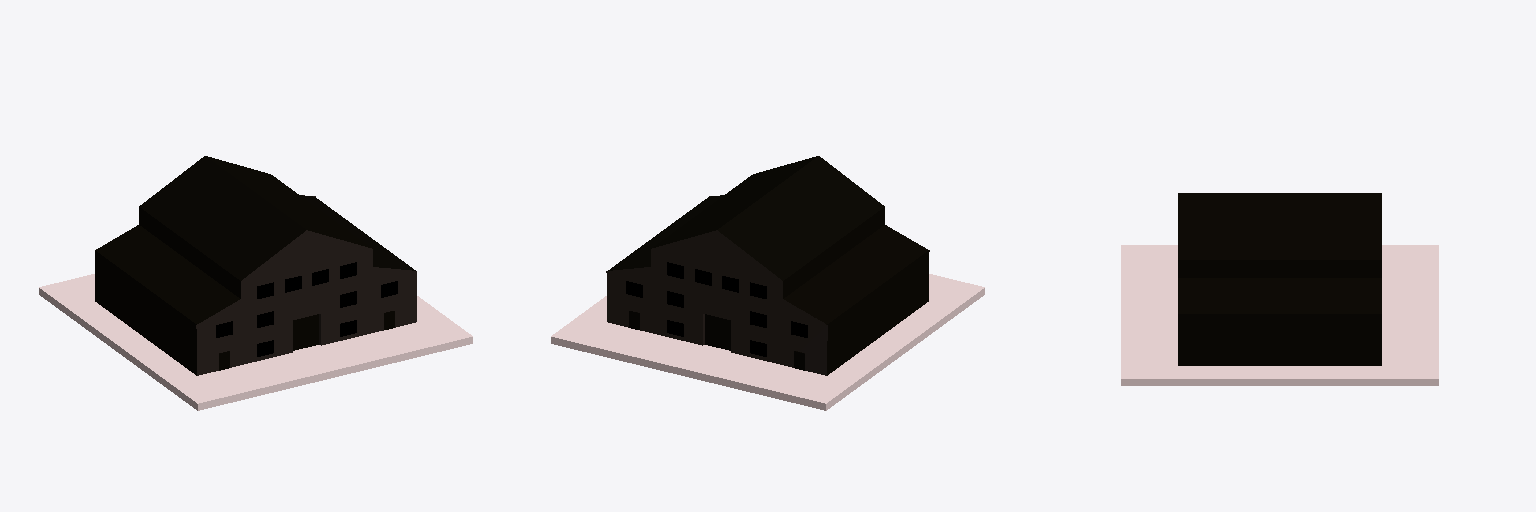
File: TallerDeMaquinaria_Laboratorio.obj
The picture shows the model from 3 angles: view 1: azimuth 30°, elevation 25°; view 2: azimuth 150°, elevation 25°; view 3: azimuth 270°, elevation 25°; orthographic projection.
Visible parts, largest first — view 1: MainBuilding1 Sides2 MainBuilding1, Floor, MainBuilding1 Exterior BuildingAttachment1, MainBuilding1 MainBuilding1 Back, MainBuilding1 BuildingAttachment1 Faces, MainBuilding1 BuildingAttachment2 Faces, MainBuilding1 Exterior BuildingAttachment2, MainBuildingEntrance1 MainBuilding1; view 2: MainBuilding1 Sides2 MainBuilding1, Floor, MainBuilding1 Exterior BuildingAttachment1, MainBuilding1 MainBuilding1 Front, MainBuilding1 BuildingAttachment1 Faces, MainBuilding1 BuildingAttachment2 Faces, MainBuilding1 Exterior BuildingAttachment2, MainBuildingEntrance1 MainBuilding1; view 3: Floor, MainBuilding1 Exterior BuildingAttachment2, MainBuilding1 Sides2 MainBuilding1.
Part boxes in pixels (left/top/right/bottom): MainBuilding1 Sides2 MainBuilding1: left=139, top=156, right=372, bottom=356; Floor: left=39, top=274, right=472, bottom=410; MainBuilding1 Exterior BuildingAttachment1: left=95, top=225, right=239, bottom=375; MainBuilding1 MainBuilding1 Back: left=241, top=230, right=372, bottom=364; MainBuilding1 BuildingAttachment1 Faces: left=96, top=232, right=240, bottom=375; MainBuilding1 BuildingAttachment2 Faces: left=303, top=195, right=416, bottom=332; MainBuilding1 Exterior BuildingAttachment2: left=300, top=195, right=415, bottom=270; MainBuildingEntrance1 MainBuilding1: left=293, top=314, right=318, bottom=350; MainBuilding1 Sides2 MainBuilding1: left=651, top=156, right=884, bottom=356; Floor: left=551, top=274, right=984, bottom=410; MainBuilding1 Exterior BuildingAttachment1: left=784, top=225, right=928, bottom=375; MainBuilding1 MainBuilding1 Front: left=651, top=230, right=782, bottom=364; MainBuilding1 BuildingAttachment1 Faces: left=783, top=232, right=929, bottom=375; MainBuilding1 BuildingAttachment2 Faces: left=606, top=195, right=720, bottom=332; MainBuilding1 Exterior BuildingAttachment2: left=608, top=195, right=723, bottom=270; MainBuildingEntrance1 MainBuilding1: left=705, top=314, right=730, bottom=350; Floor: left=1121, top=245, right=1438, bottom=385; MainBuilding1 Exterior BuildingAttachment2: left=1178, top=278, right=1381, bottom=365; MainBuilding1 Sides2 MainBuilding1: left=1178, top=193, right=1381, bottom=277.
Size of the model in its own units: 200 by 87.6 by 200.